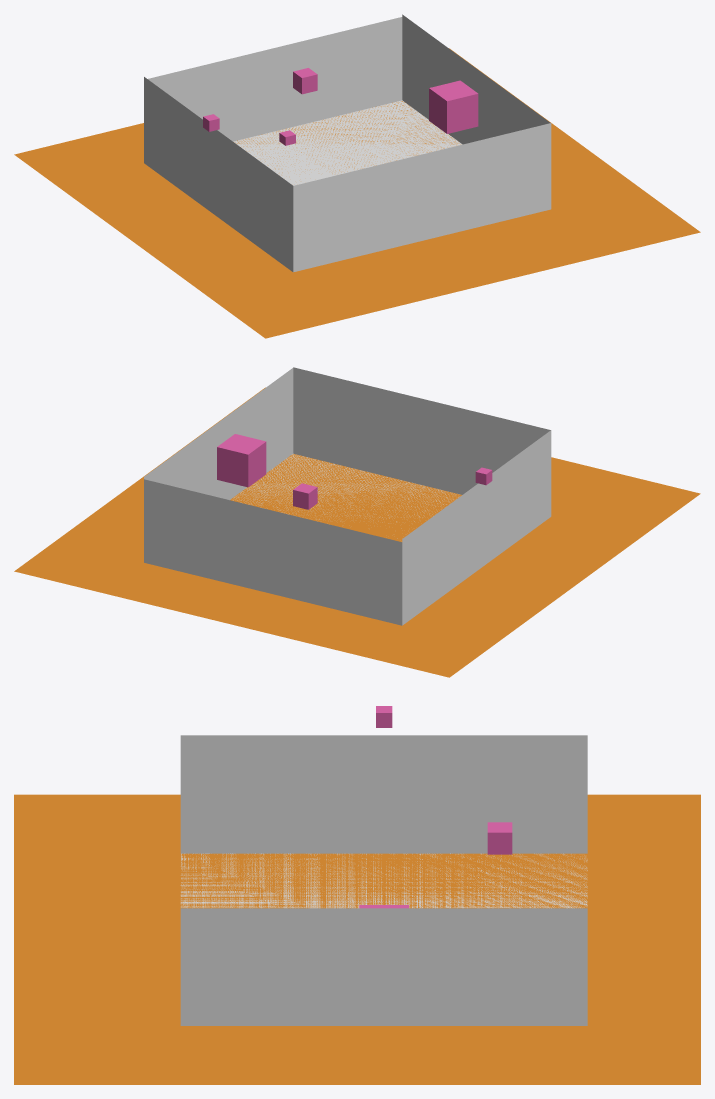
Rendered from environmenttest.fbx.
3 views of the same model, one above another, from view 1: azimuth 30°, elevation 25°; view 2: azimuth 150°, elevation 25°; view 3: azimuth 270°, elevation 25° (orthographic). The views are drawn at different scales.
Visible parts, largest first — view 1: environment:proxy, environment:main; view 2: environment:proxy, environment:main; view 3: environment:main, environment:proxy.
Boxes of the visible parts, x1,y1,x2,y2 form: environment:proxy: [144, 14, 551, 272]; environment:main: [14, 48, 700, 338]; environment:proxy: [144, 367, 551, 625]; environment:main: [14, 387, 700, 677]; environment:main: [14, 706, 700, 1084]; environment:proxy: [180, 735, 587, 1025].
Size of the model in its own units: 8326 by 1906 by 8326.
